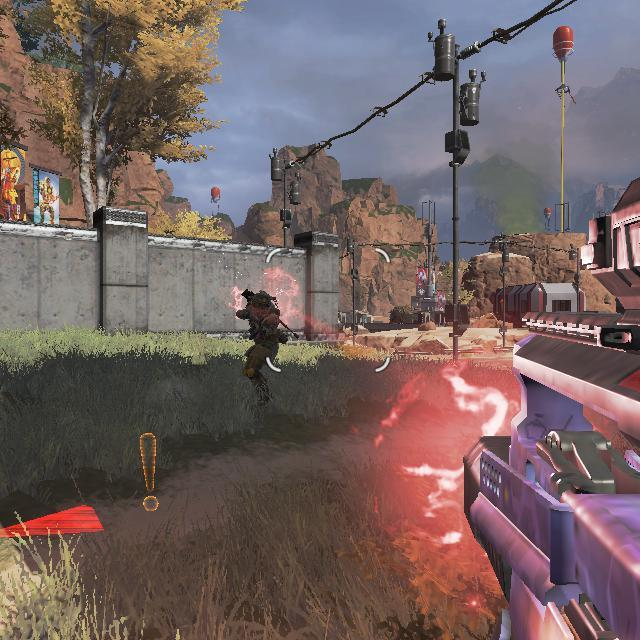avatar: (233, 288, 282, 412)
